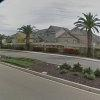Palm tree: (73, 10, 100, 66)
